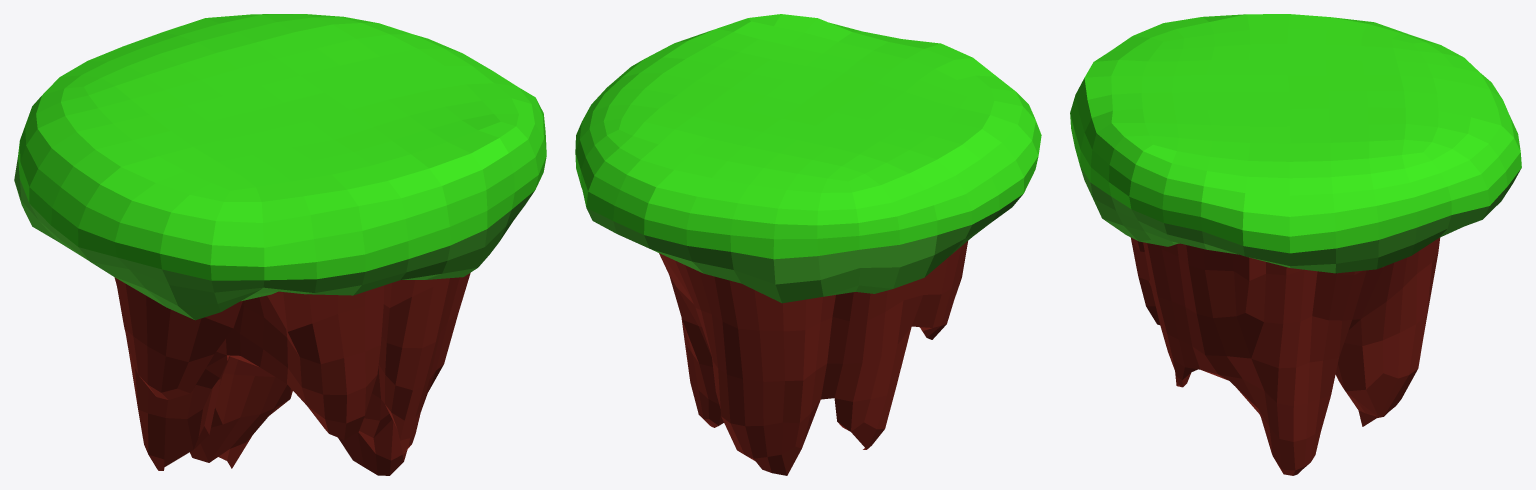
Rendered from IslandThree.fbx.
3 renders of one model, left to right at view 1: azimuth 30°, elevation 25°; view 2: azimuth 150°, elevation 25°; view 3: azimuth 270°, elevation 25°, orthographic. The views are drawn at different scales.
Parts seen in each view (by area): view 1: Cube, Retopo_Landscape.002; view 2: Cube, Retopo_Landscape.002; view 3: Cube, Retopo_Landscape.002.
Part boxes in pixels (<box>): Cube: <box>14,14,546,320</box>; Retopo_Landscape.002: <box>114,273,470,475</box>; Cube: <box>575,14,1041,303</box>; Retopo_Landscape.002: <box>659,241,967,475</box>; Cube: <box>1070,14,1521,273</box>; Retopo_Landscape.002: <box>1130,237,1439,475</box>.
Bounding box in the file's own units: 13124 × 10751 × 12731.
